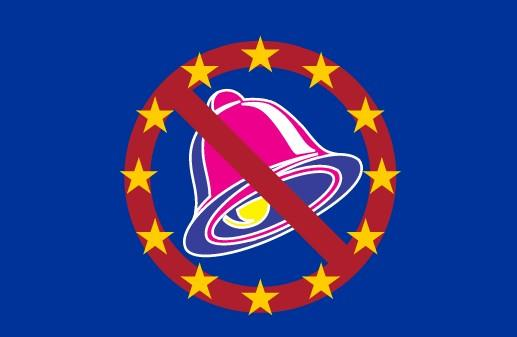Taco_Bell: (127, 41, 400, 318)
